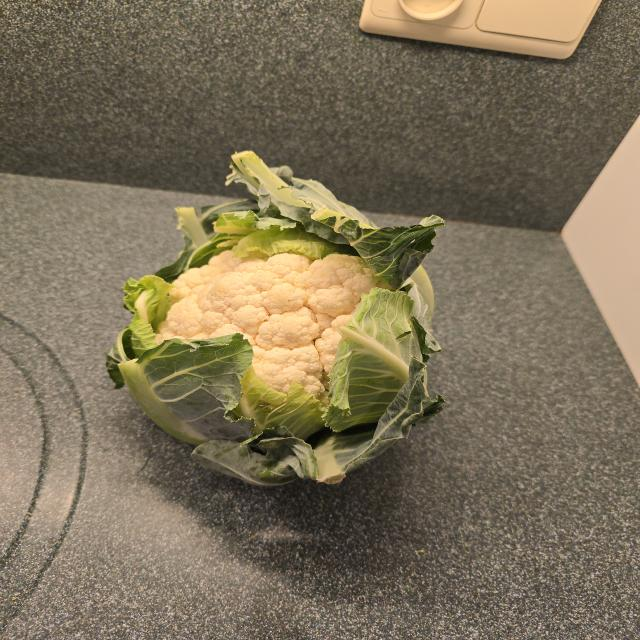Cauliflower: (91, 147, 463, 497)
